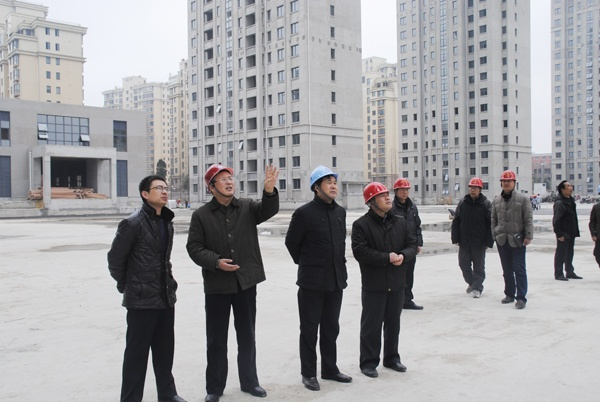blue: (307, 166, 338, 201)
none: (139, 174, 169, 207), (558, 179, 574, 197)
red: (203, 164, 236, 198), (362, 180, 393, 212), (393, 178, 412, 200), (499, 169, 517, 192), (469, 176, 483, 197)
